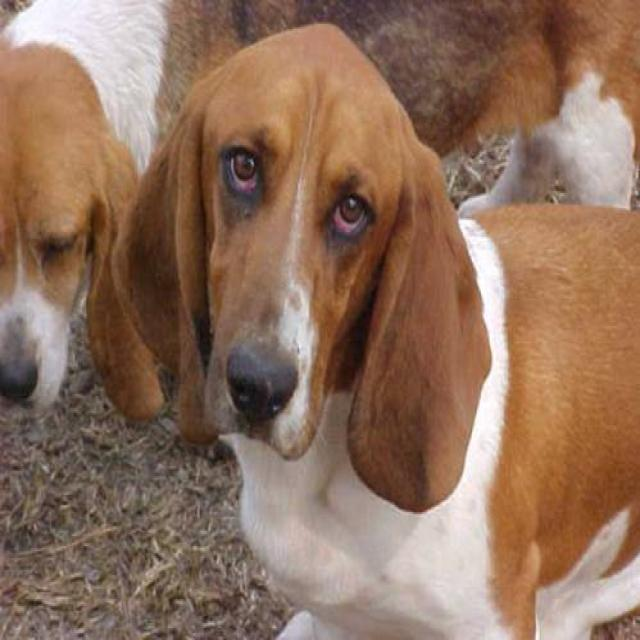dog: (115, 19, 639, 638)
